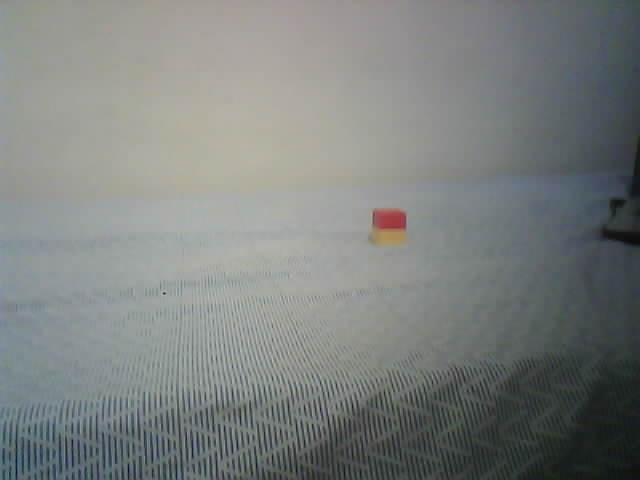lego: (369, 207, 408, 249)
